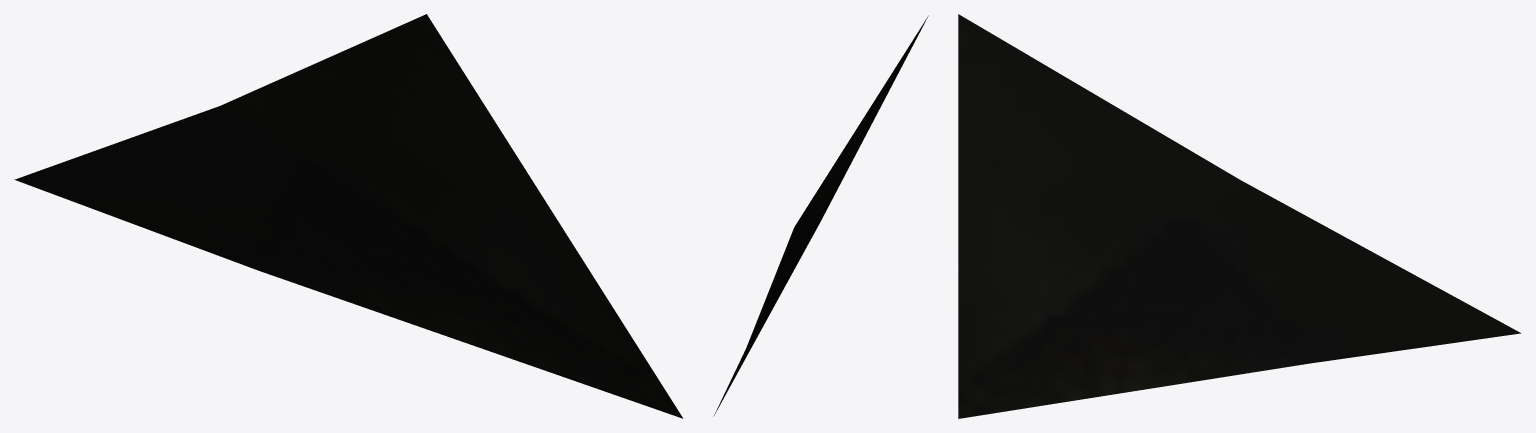
The picture shows the model from 3 angles, left to right: view 1: azimuth 30°, elevation 25°; view 2: azimuth 150°, elevation 25°; view 3: azimuth 270°, elevation 25°; orthographic projection. The views are drawn at different scales.
Size of the model in its own units: 0.3624 by 0.6305 by 1.01.
1 material, 1 textured.
